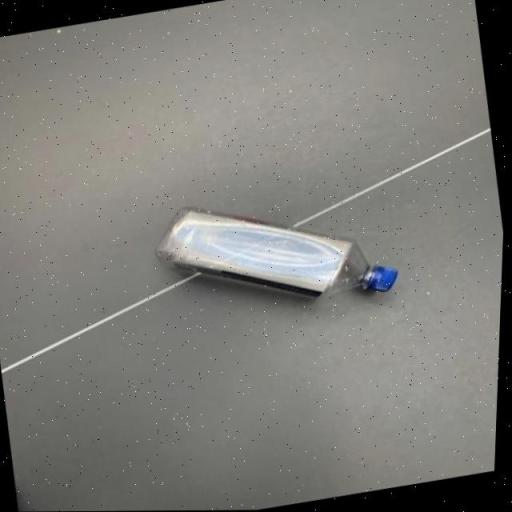plastic: (148, 173, 406, 330)
